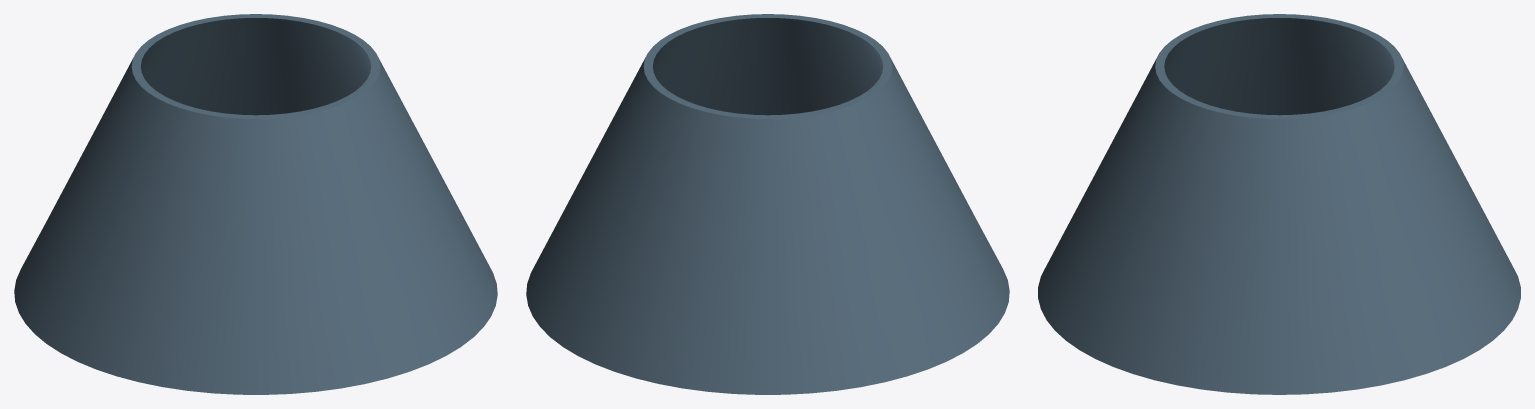
Rendered from perehod-426x12-219x8-L220.glb.
3 views of the same model, side by side, from view 1: azimuth 30°, elevation 25°; view 2: azimuth 150°, elevation 25°; view 3: azimuth 270°, elevation 25° (orthographic).
Parts seen in each view (by area): view 1: Open CASCADE STEP translator 7.9 69; view 2: Open CASCADE STEP translator 7.9 69; view 3: Open CASCADE STEP translator 7.9 69.
Boxes of the visible parts, left/top/right/bottom form: Open CASCADE STEP translator 7.9 69: left=14, top=14, right=497, bottom=394; Open CASCADE STEP translator 7.9 69: left=526, top=14, right=1009, bottom=394; Open CASCADE STEP translator 7.9 69: left=1038, top=14, right=1520, bottom=394.
Size of the model in its own units: 426 by 220 by 425.
